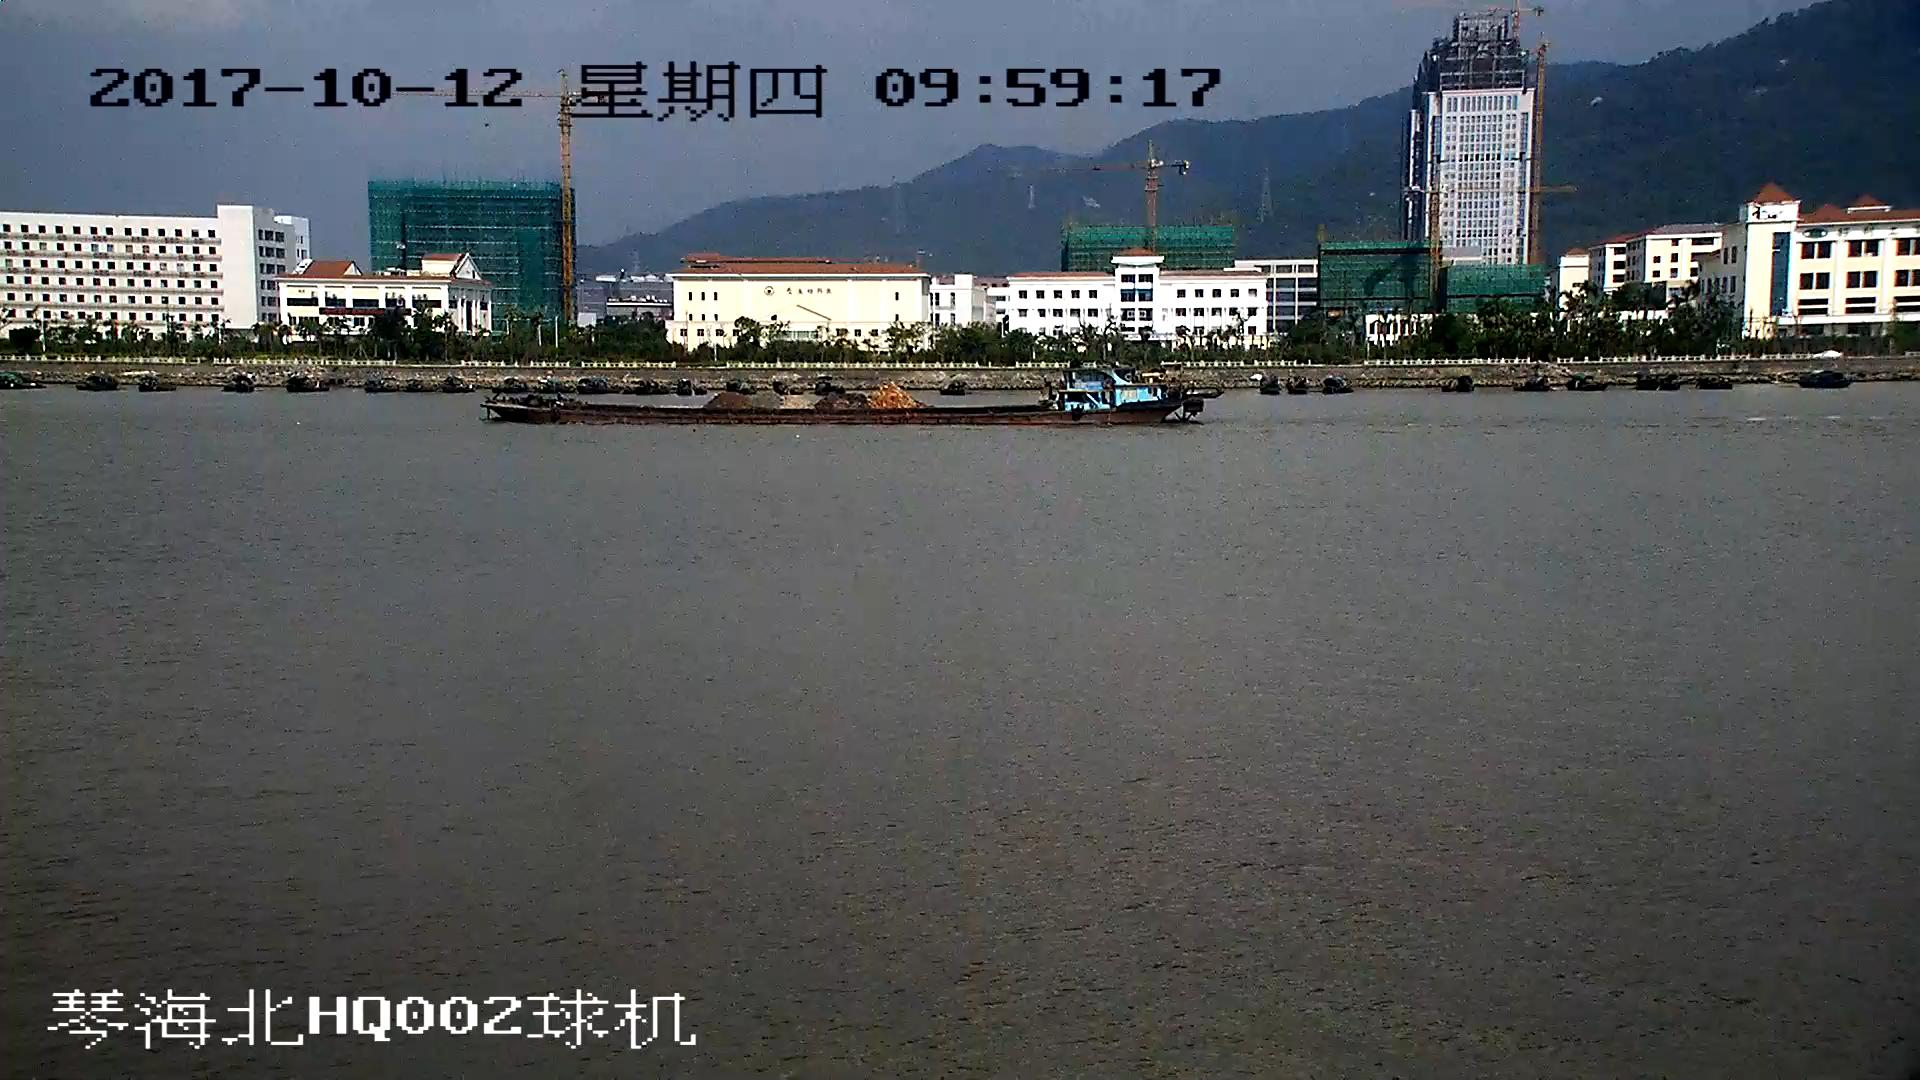ore carrier: (489, 362, 1201, 426)
